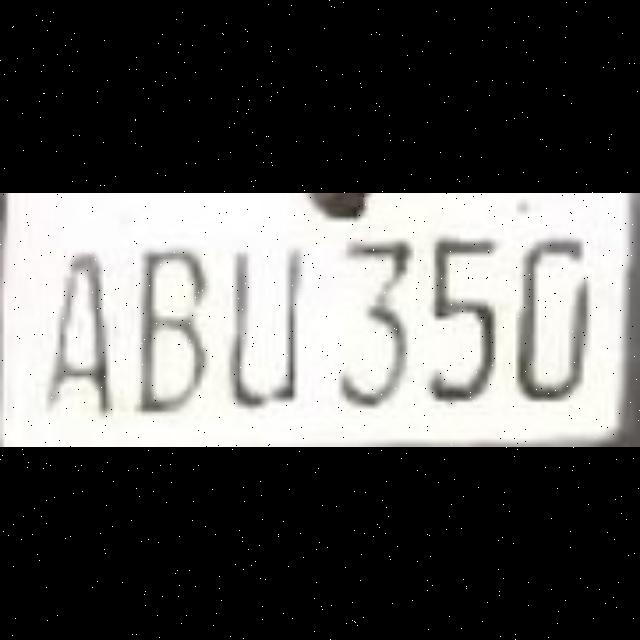0: (506, 239, 598, 405)
3: (320, 239, 412, 405)
5: (414, 239, 506, 405)
A: (42, 239, 134, 405)
B: (134, 239, 226, 405)
U: (228, 239, 320, 405)
